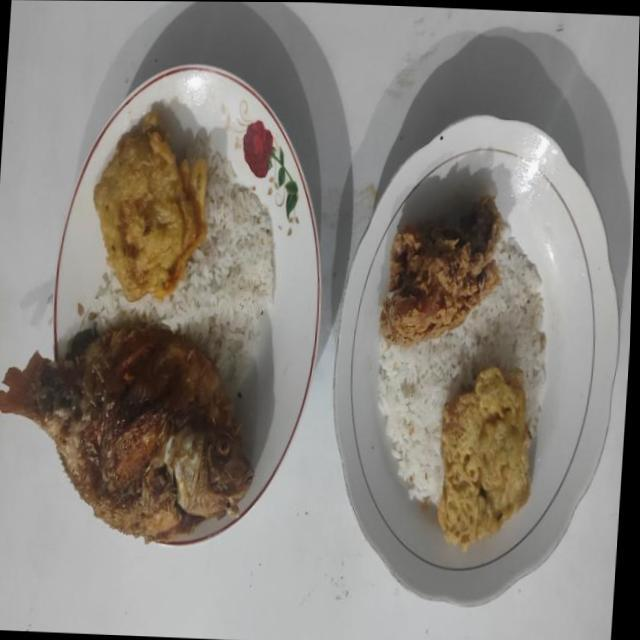ikan_mujair: (0, 322, 253, 540)
nasi_putih: (377, 228, 546, 504), (92, 138, 274, 388)
